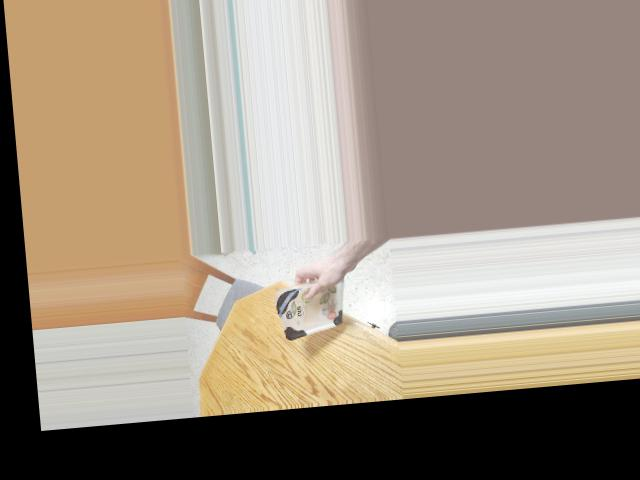cheese: (271, 274, 360, 337)
